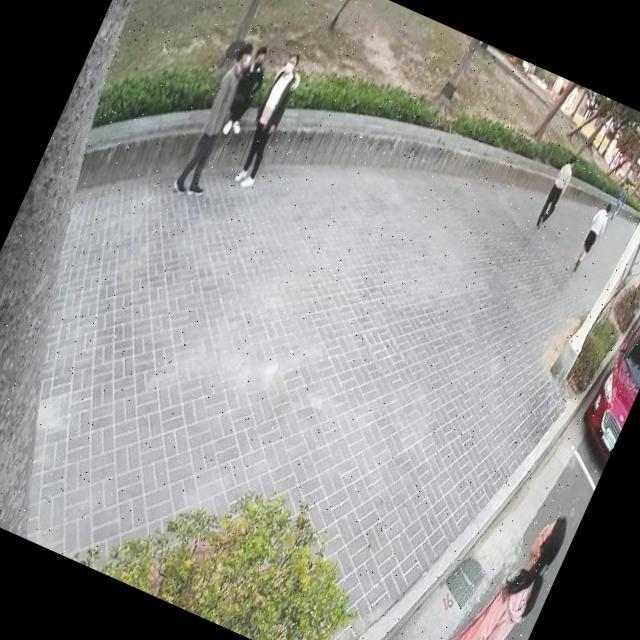person: (380, 472, 576, 640), (167, 32, 271, 206), (224, 44, 314, 193), (213, 38, 278, 140), (530, 146, 584, 236), (567, 195, 618, 279)
